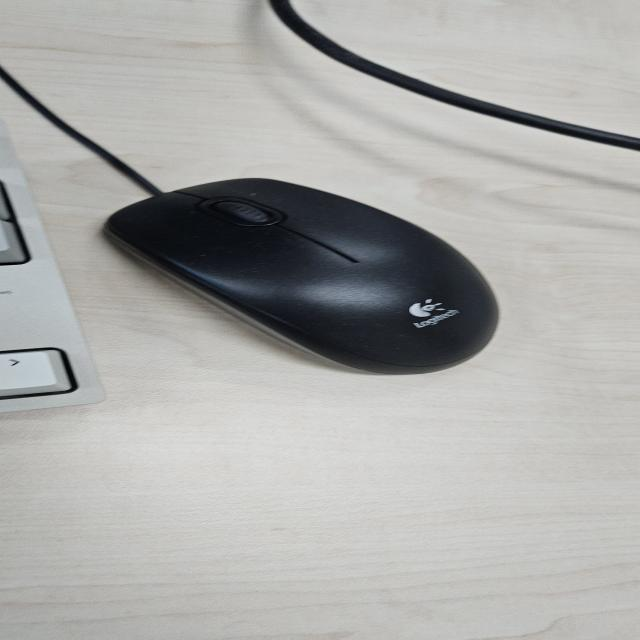Keyboard: (0, 122, 107, 414)
Mouse: (100, 176, 503, 376)
